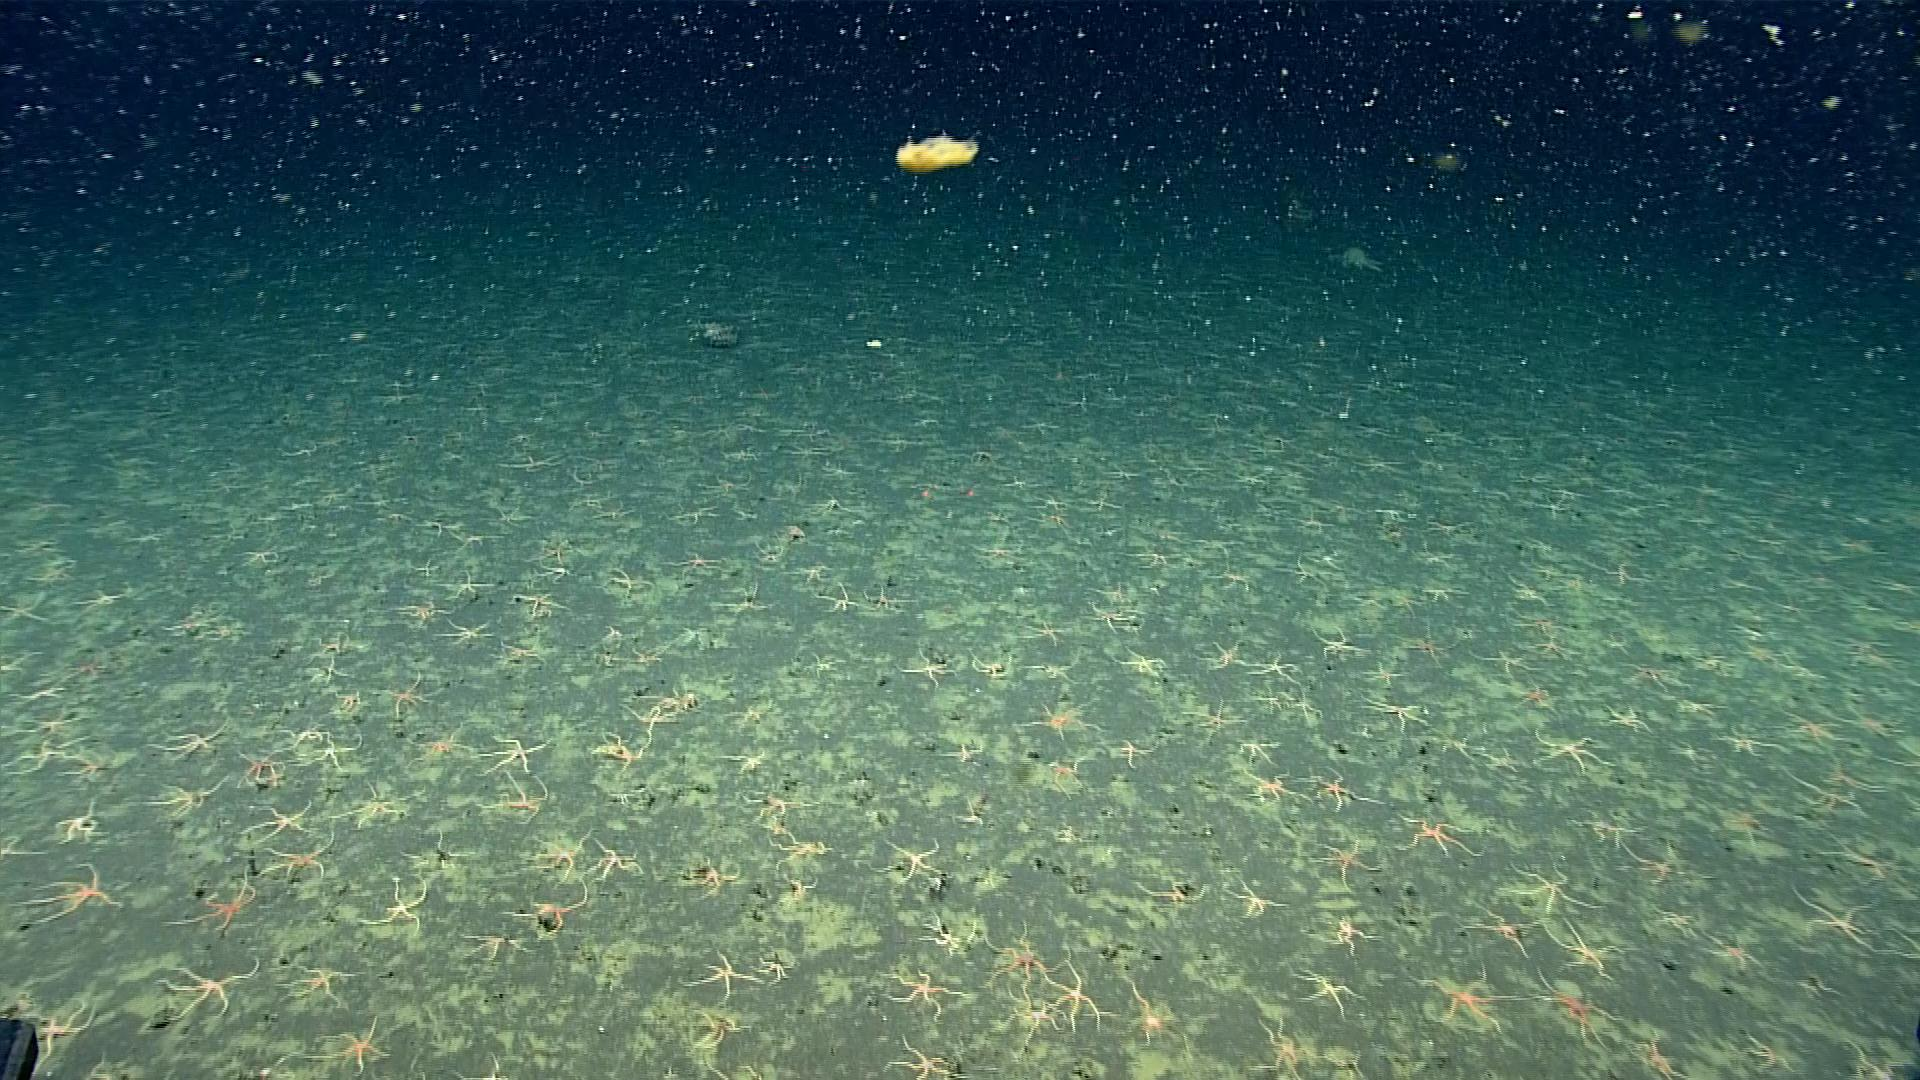brittle_sea_star: (1406, 957, 1530, 1038), (1531, 964, 1618, 1054), (158, 955, 264, 1021), (15, 861, 128, 922), (164, 865, 260, 935), (981, 920, 1062, 997), (22, 997, 104, 1071), (1506, 861, 1607, 918), (1548, 916, 1630, 982), (1791, 886, 1871, 948), (880, 972, 971, 1023), (1458, 905, 1543, 959), (307, 1015, 388, 1072), (675, 952, 762, 1004), (1398, 810, 1486, 860), (330, 778, 422, 825), (502, 886, 588, 935), (1039, 960, 1096, 1033), (1613, 840, 1702, 885), (1122, 980, 1180, 1047), (1257, 1011, 1315, 1079), (357, 881, 427, 936), (996, 990, 1059, 1051), (1291, 963, 1365, 1014), (877, 1035, 964, 1079), (257, 835, 336, 882), (878, 836, 945, 890), (487, 771, 555, 823), (1, 736, 84, 778), (276, 963, 356, 1006), (1531, 729, 1611, 773), (1787, 773, 1862, 819), (1311, 839, 1379, 889), (149, 773, 229, 815), (144, 721, 229, 761), (1820, 835, 1896, 878), (1019, 700, 1100, 741), (402, 827, 475, 872), (531, 829, 592, 882), (736, 790, 819, 828), (1232, 765, 1303, 808), (1307, 770, 1381, 811), (1841, 1036, 1913, 1077), (476, 736, 550, 775), (401, 721, 475, 761), (247, 798, 315, 840), (373, 671, 434, 719), (915, 911, 976, 957), (54, 795, 111, 843), (764, 835, 833, 873), (1356, 694, 1425, 732), (460, 926, 533, 961), (1179, 696, 1244, 736), (898, 646, 956, 690), (587, 728, 651, 766), (687, 1010, 745, 1052), (440, 564, 506, 601), (1228, 881, 1291, 919), (589, 839, 645, 881), (1311, 621, 1370, 659), (303, 733, 367, 769), (662, 549, 725, 584), (625, 702, 682, 740), (1716, 725, 1782, 757), (1199, 640, 1266, 670), (235, 752, 286, 791), (1636, 1040, 1689, 1079), (1708, 934, 1762, 971), (1470, 649, 1539, 678), (1724, 804, 1774, 844), (396, 596, 458, 628), (1621, 661, 1683, 692), (1325, 915, 1378, 952), (1400, 628, 1457, 662), (1577, 811, 1634, 845), (1746, 1036, 1796, 1075), (1829, 760, 1882, 795), (678, 865, 741, 894), (597, 566, 653, 599), (1114, 645, 1170, 678), (1788, 711, 1838, 746), (0, 589, 51, 624), (496, 637, 547, 671), (24, 709, 94, 735), (443, 616, 497, 647), (1419, 728, 1473, 760), (0, 831, 53, 861), (645, 686, 705, 712), (508, 593, 564, 621), (1245, 651, 1299, 680), (1655, 906, 1702, 939), (1849, 708, 1900, 738), (535, 555, 587, 585), (1149, 876, 1207, 902), (972, 538, 1030, 564), (1125, 546, 1185, 571), (1742, 645, 1803, 670), (1317, 1046, 1367, 1076), (1605, 705, 1652, 737), (723, 583, 766, 617), (306, 659, 355, 690), (75, 587, 128, 615), (1088, 601, 1134, 633), (1287, 505, 1338, 533), (1022, 504, 1073, 531), (1879, 740, 1919, 775), (1516, 678, 1559, 711), (865, 582, 913, 611), (1044, 757, 1084, 791), (1213, 558, 1254, 591), (1522, 607, 1564, 638), (1283, 556, 1327, 587), (1847, 637, 1891, 666), (1284, 691, 1323, 724), (493, 452, 560, 471), (9, 682, 71, 702), (704, 1059, 766, 1079), (969, 647, 1011, 676), (716, 749, 765, 774), (1601, 560, 1647, 587), (1026, 659, 1080, 682), (754, 955, 793, 986), (819, 583, 860, 612), (1118, 738, 1159, 767), (1025, 618, 1069, 645), (1354, 663, 1407, 686), (59, 754, 111, 777), (1481, 746, 1520, 774), (1410, 543, 1456, 567), (625, 645, 670, 669), (161, 618, 206, 642), (306, 636, 356, 657), (280, 725, 328, 746), (804, 650, 843, 676), (939, 742, 986, 764), (1675, 696, 1725, 716), (1312, 546, 1348, 574), (694, 476, 750, 493), (1685, 647, 1726, 671), (794, 560, 836, 583), (1668, 741, 1709, 764), (781, 876, 815, 902), (447, 531, 500, 549), (1535, 637, 1575, 659), (1081, 493, 1121, 516), (73, 654, 112, 676), (330, 686, 363, 712), (1240, 738, 1280, 760), (1100, 459, 1141, 480), (1105, 582, 1139, 607), (206, 621, 244, 644), (1391, 591, 1427, 615), (1424, 583, 1472, 600), (779, 517, 814, 541), (1431, 518, 1474, 537), (1251, 684, 1282, 711), (757, 539, 787, 566), (1718, 574, 1758, 593), (822, 462, 862, 480), (124, 529, 171, 545), (959, 800, 985, 828), (731, 703, 765, 724), (1232, 469, 1274, 487), (673, 508, 716, 524), (241, 549, 280, 566), (811, 496, 849, 513), (1536, 498, 1575, 516), (539, 539, 572, 559), (1601, 633, 1630, 655), (413, 520, 460, 533), (600, 625, 628, 646), (413, 558, 440, 576), (591, 650, 615, 669), (578, 496, 609, 509), (464, 1071, 516, 1079), (1006, 473, 1029, 488)
